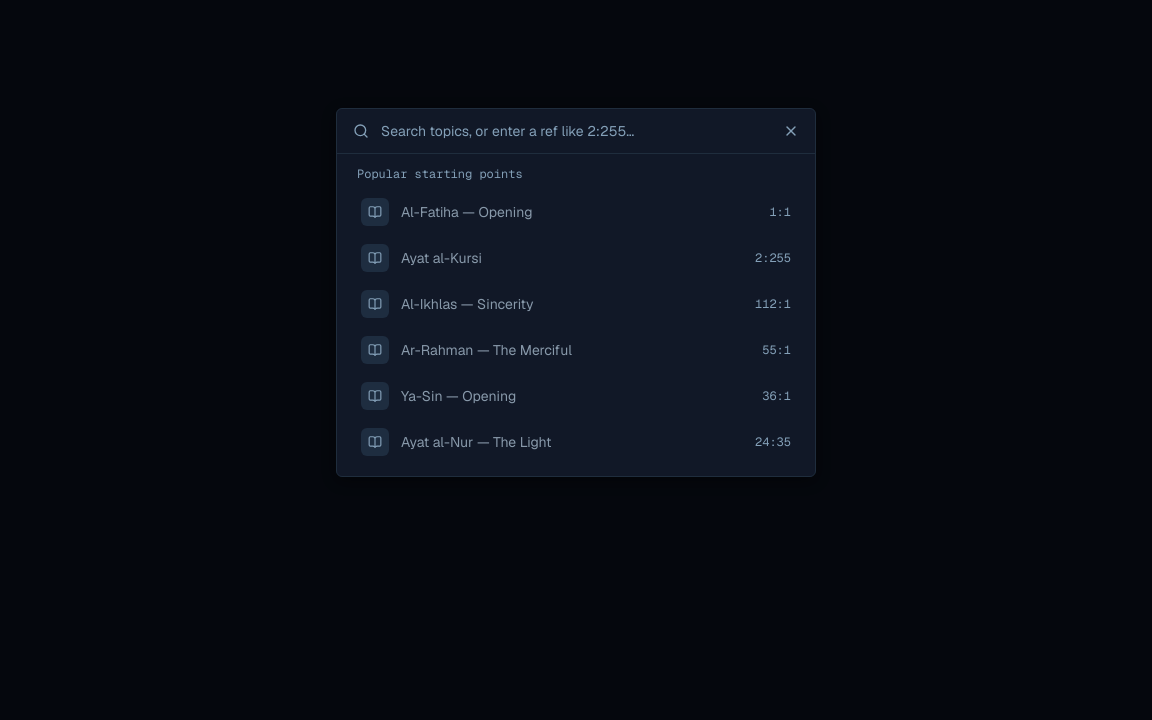
it: SearchDialog view-all-results footer hint › hides the 'press Enter to view all' hint once a result is highlighted, since Enter now selects it instead
Type "guidance" into the dropdown at point(576, 131), box [381, 121, 771, 141]
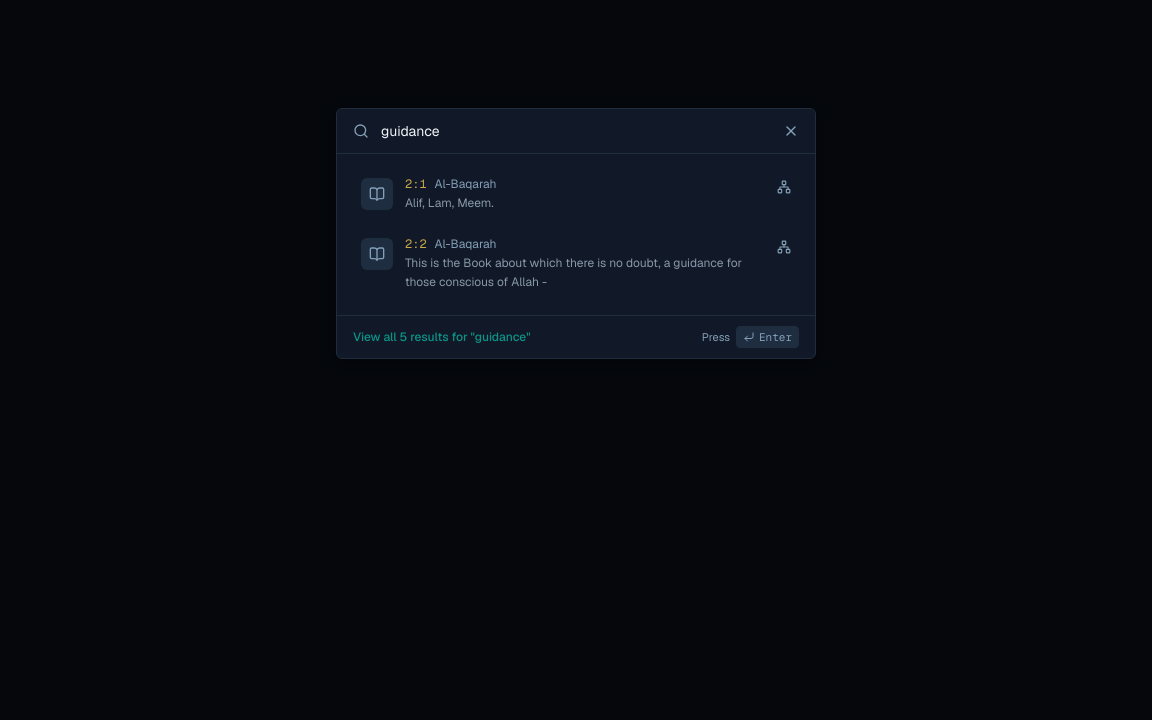
Expected: the number of options is 2, [349, 166, 803, 224]; [349, 226, 803, 302]
Expected: the text "Enter" is shown, [736, 326, 799, 348]
Press ArrowDown in the dropdown, box [381, 121, 771, 141]
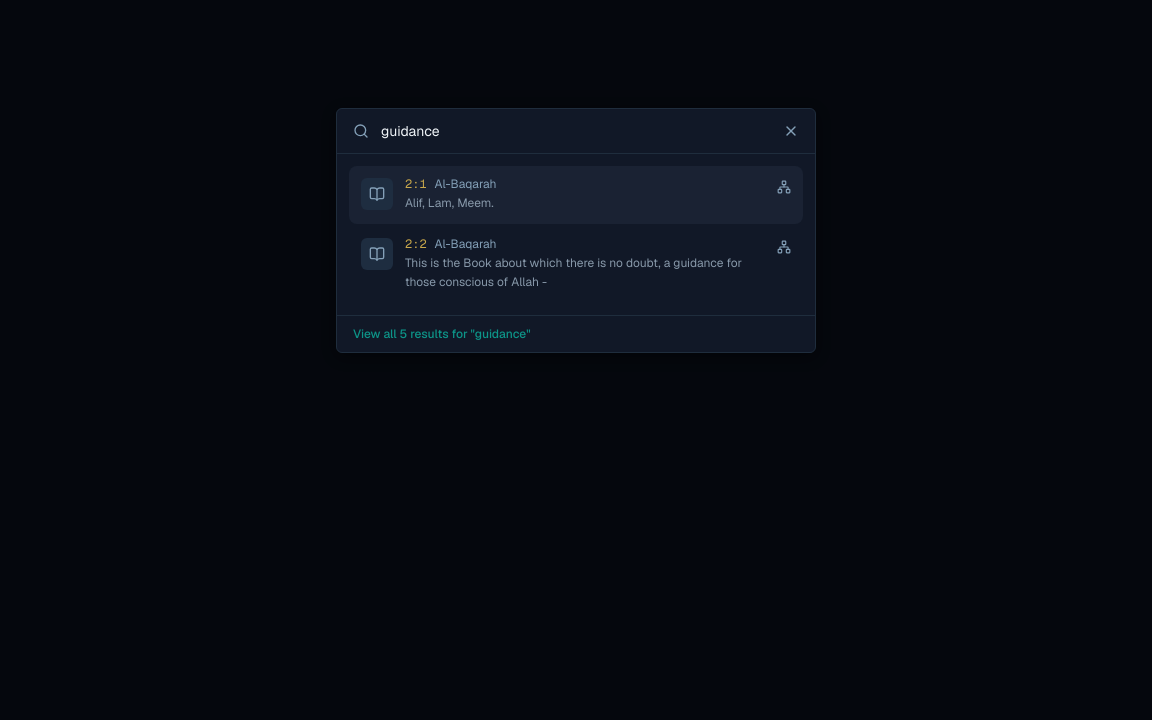
Expected: the button "View all 5 results for \"guidance\"" is shown, [337, 314, 815, 352]
Expected: the text "Enter" is gone
